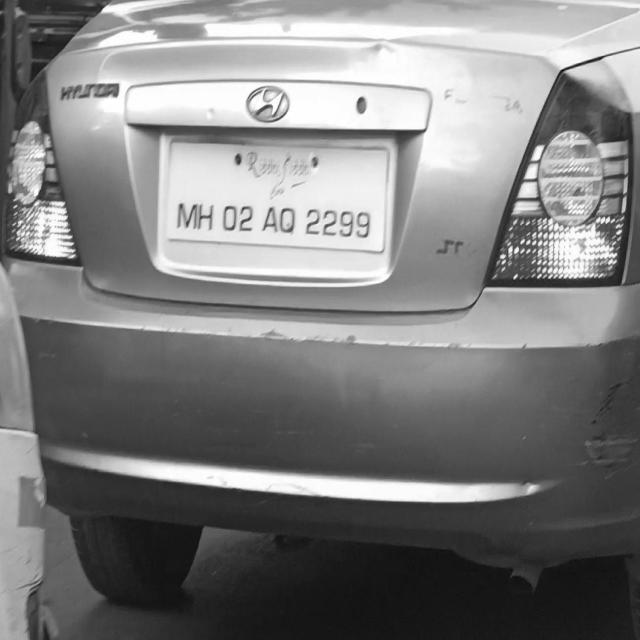license-plate: (165, 136, 390, 292)
